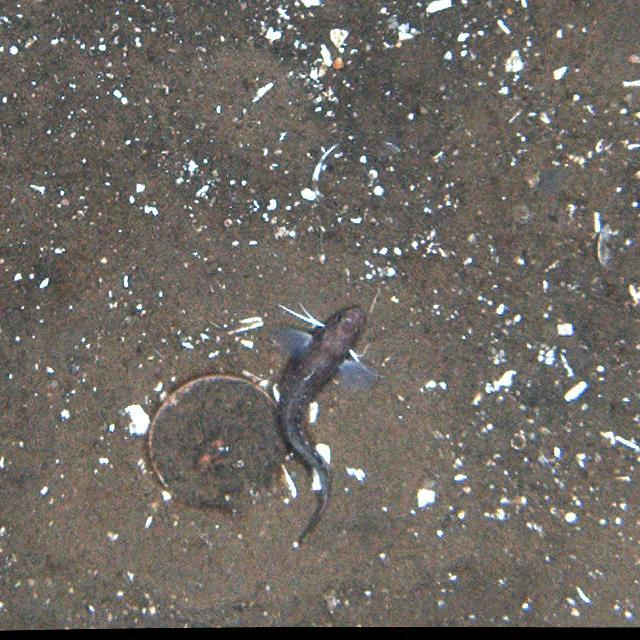roundfish: (261, 298, 377, 540)
